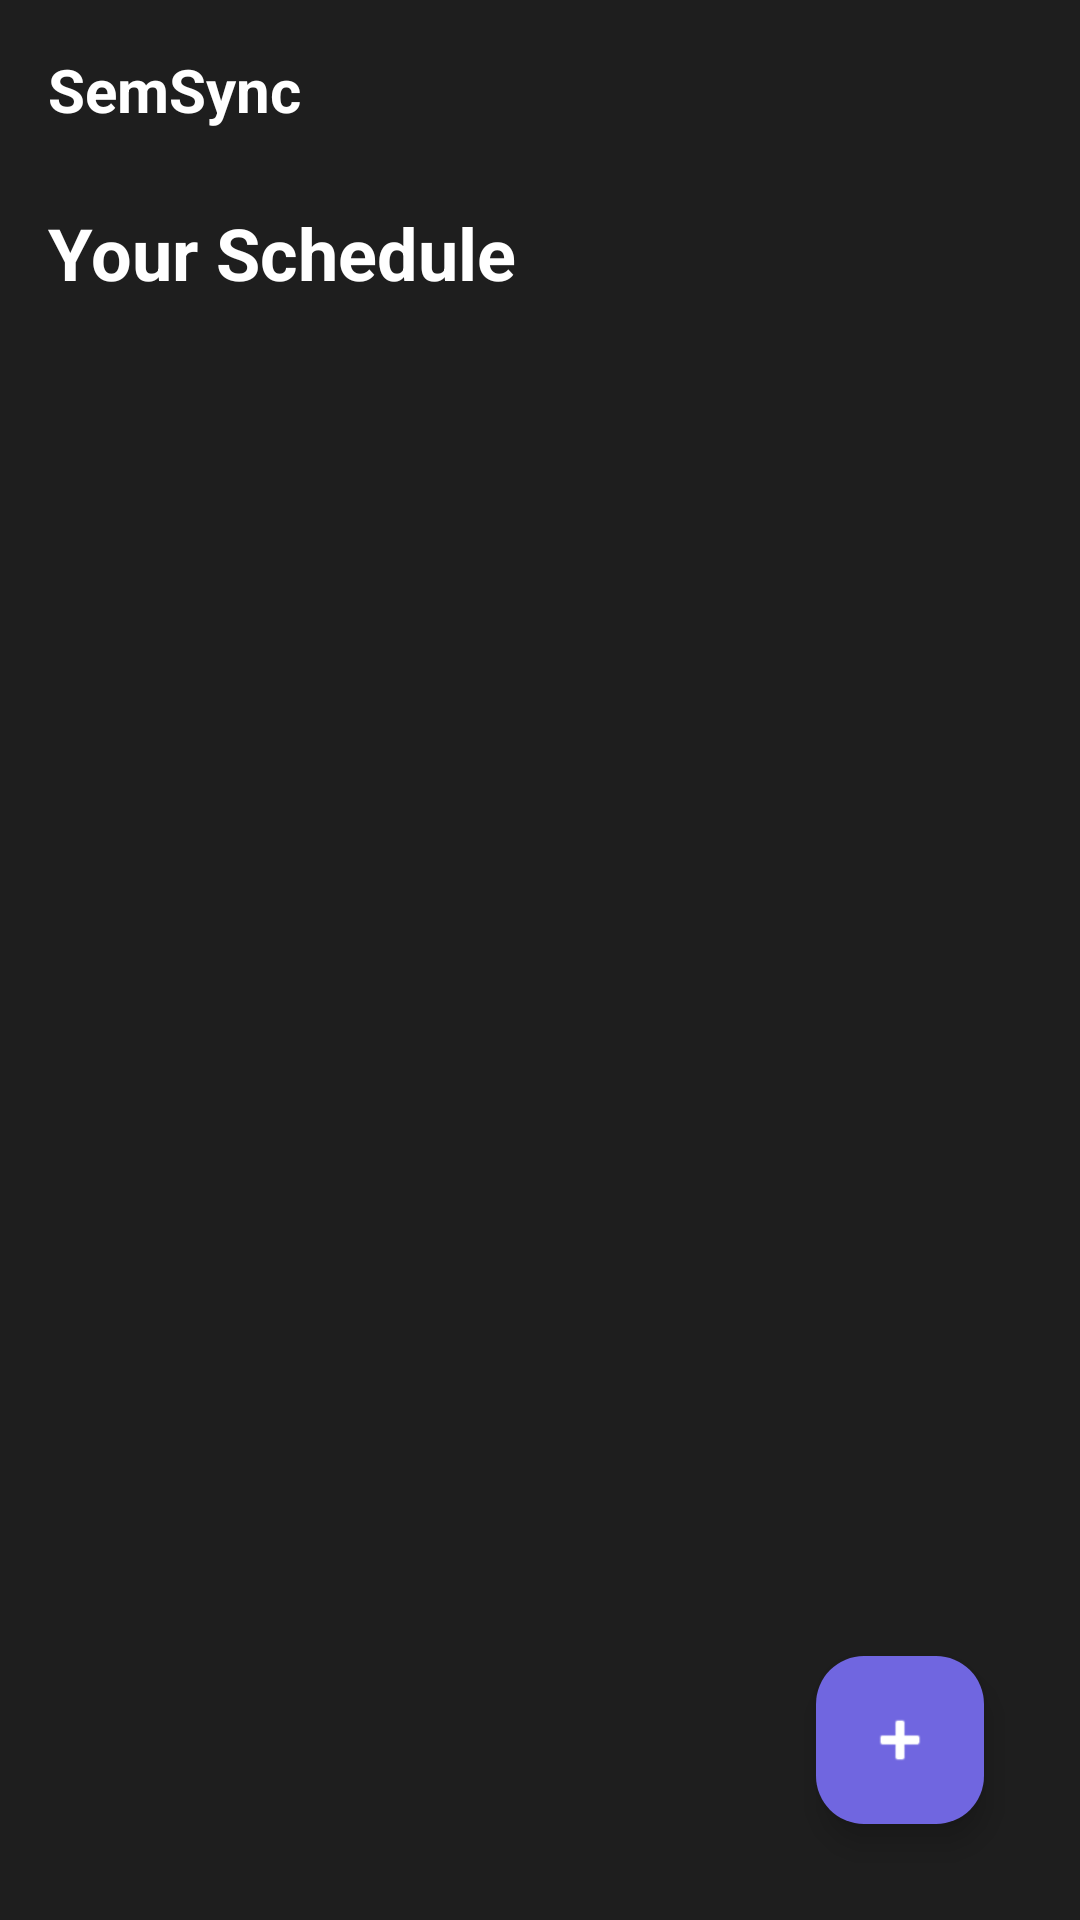

Named icons in this screenshot (1080px x 1920px) and their bounding boxes, (x1, y1, x2, y2):
Add Class: (816, 1656, 984, 1824)
